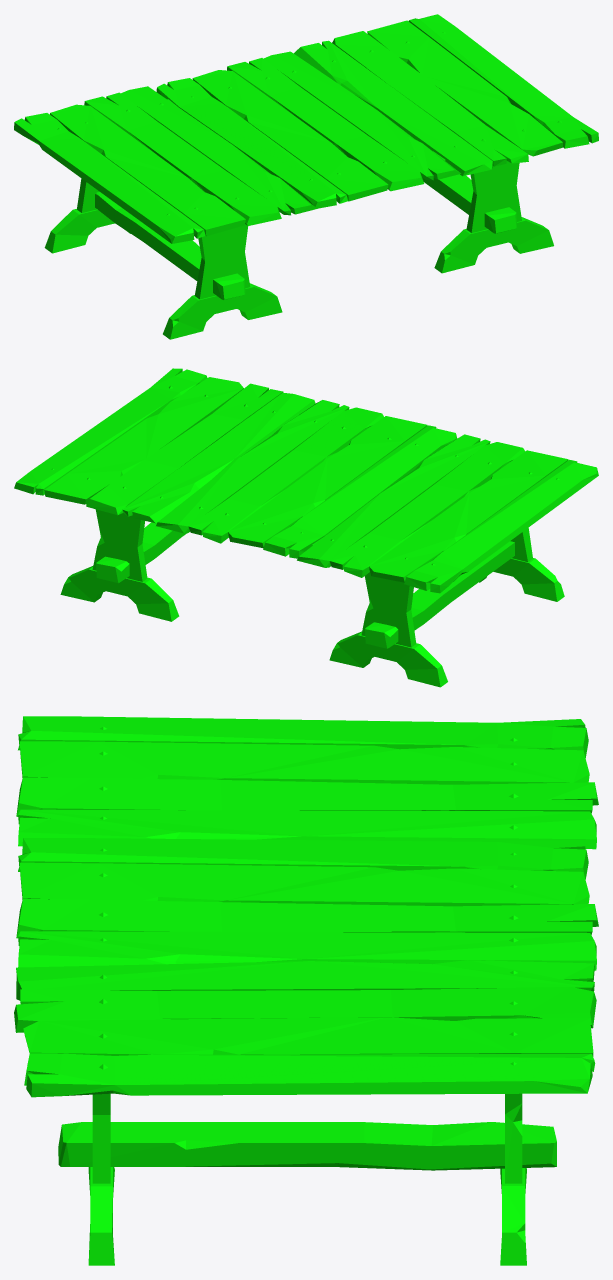
Rendered from SM_Table_Battlemap_A_Fantasy.fbx.
The picture shows the model from 3 angles, top to bottom: view 1: azimuth 30°, elevation 25°; view 2: azimuth 150°, elevation 25°; view 3: azimuth 270°, elevation 25°; orthographic projection. The views are drawn at different scales.
Visible parts, largest first — view 1: table-battlemap-a-fantasy; view 2: table-battlemap-a-fantasy; view 3: table-battlemap-a-fantasy.
Boxes of the visible parts, x1,y1,x2,y2 form: table-battlemap-a-fantasy: [14, 14, 598, 339]; table-battlemap-a-fantasy: [14, 368, 598, 687]; table-battlemap-a-fantasy: [14, 716, 598, 1265].
Bounding box in the file's own units: 4.81 × 1.31 × 3.24.
